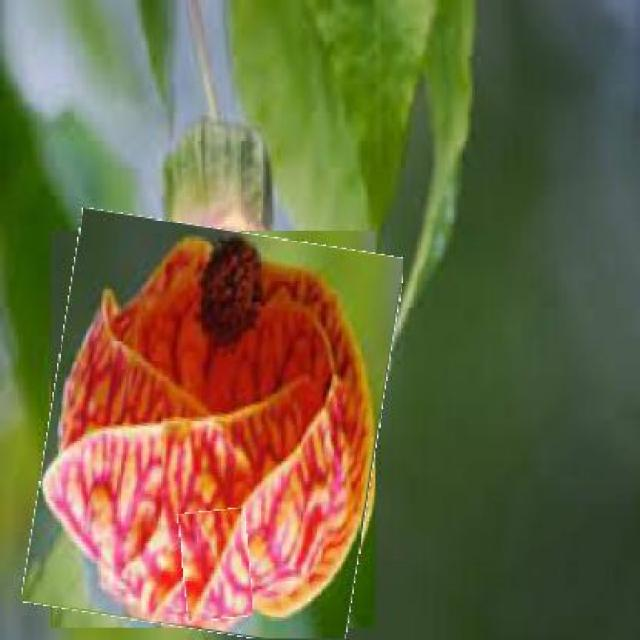Flower: (36, 219, 393, 639), (181, 509, 252, 620)
